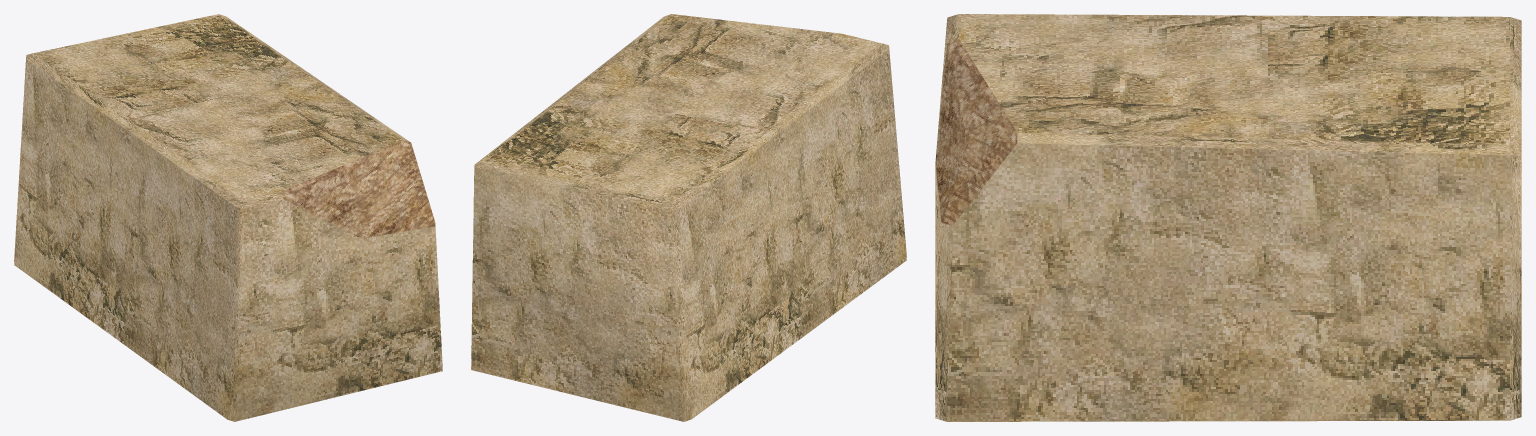
Rendered from stage-ruin-p2-496.glb.
3 views of the same model, side by side, from view 1: azimuth 30°, elevation 25°; view 2: azimuth 150°, elevation 25°; view 3: azimuth 270°, elevation 25° (orthographic). The views are drawn at different scales.
Bounding box in the file's own units: 4.49 × 4.25 × 7.9.
Materials: 2 (2 with a texture image).
